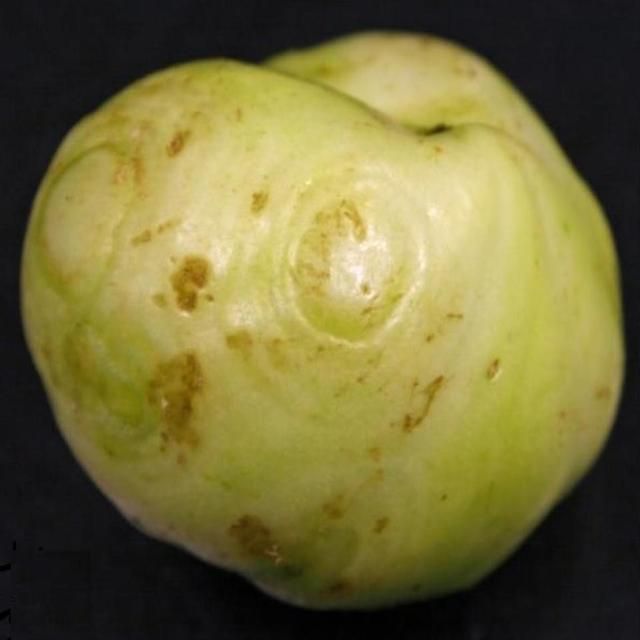Spotted wilt Virus Fruit: (88, 15, 191, 63)
